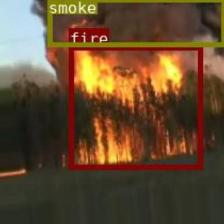fire: (68, 44, 202, 168)
smoke: (46, 0, 224, 45)
